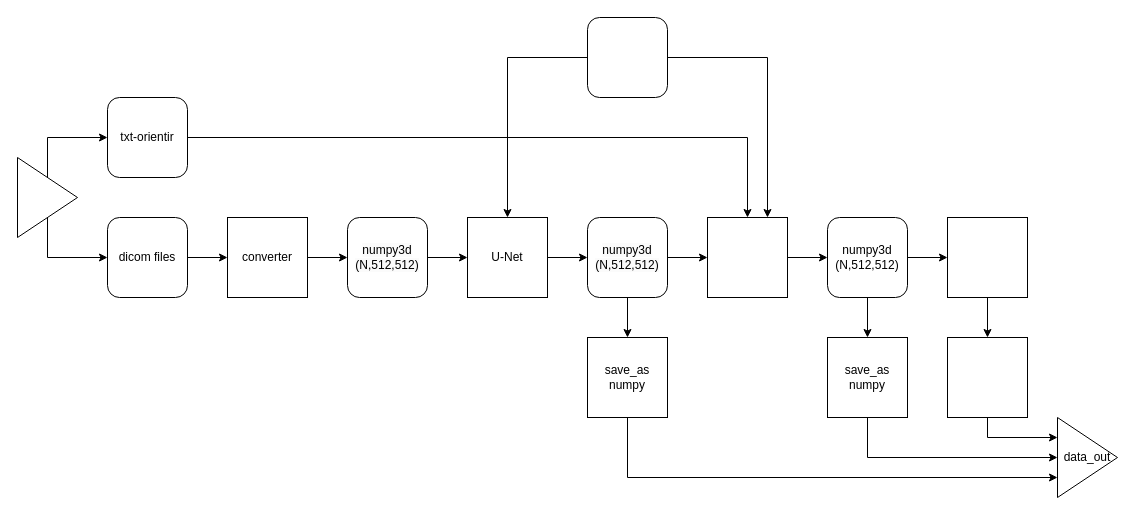
The diagram is 1135 pixels wide and 515 high, and some of its shapes have lost their labels. The shapes that lost their labels are listed below. From the top down, each one's box as (x1, y1, x2, y2) in pixels, then its label:
(586, 16, 668, 98): Config
(16, 156, 78, 238): data_in
(706, 216, 788, 298): Generator
(946, 216, 1028, 298): stl
(946, 336, 1028, 418): save_as stl
